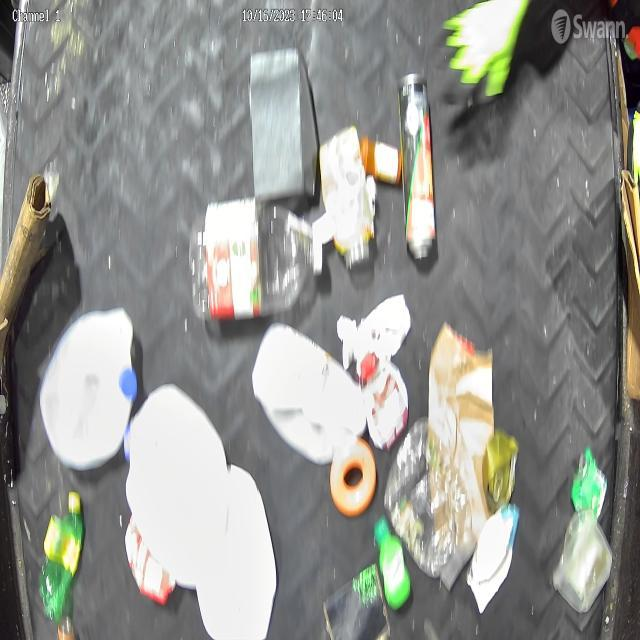can: (398, 71, 438, 262), (482, 431, 522, 516)
milk_jug: (123, 382, 229, 592), (251, 318, 367, 466), (40, 306, 138, 474), (194, 462, 278, 640)
non_white_jug: (356, 353, 410, 453)
plastic_bottle: (188, 198, 322, 320)
